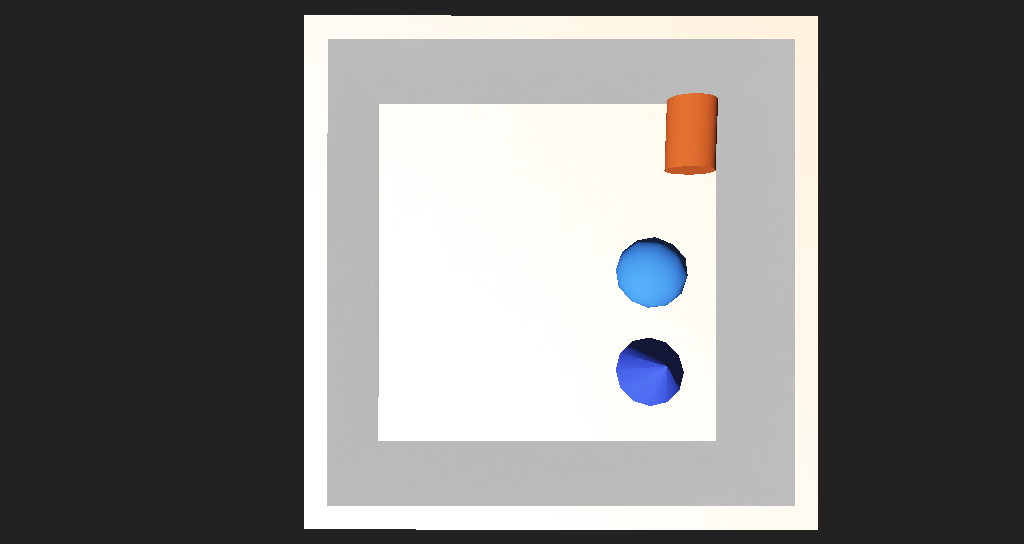cone: (606, 155, 660, 208)
cylinder: (569, 301, 643, 358)
sphere: (569, 243, 630, 291)
